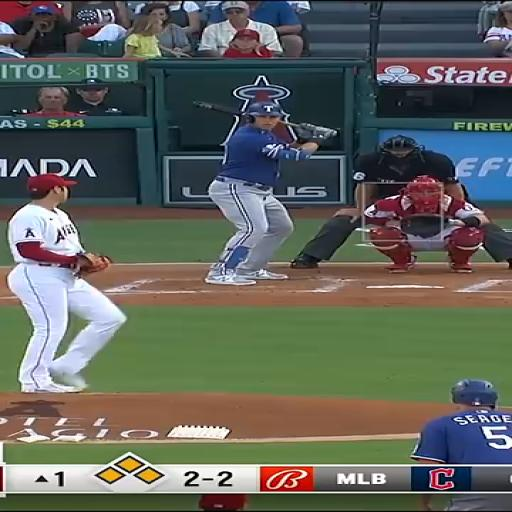bat: (194, 101, 244, 115)
